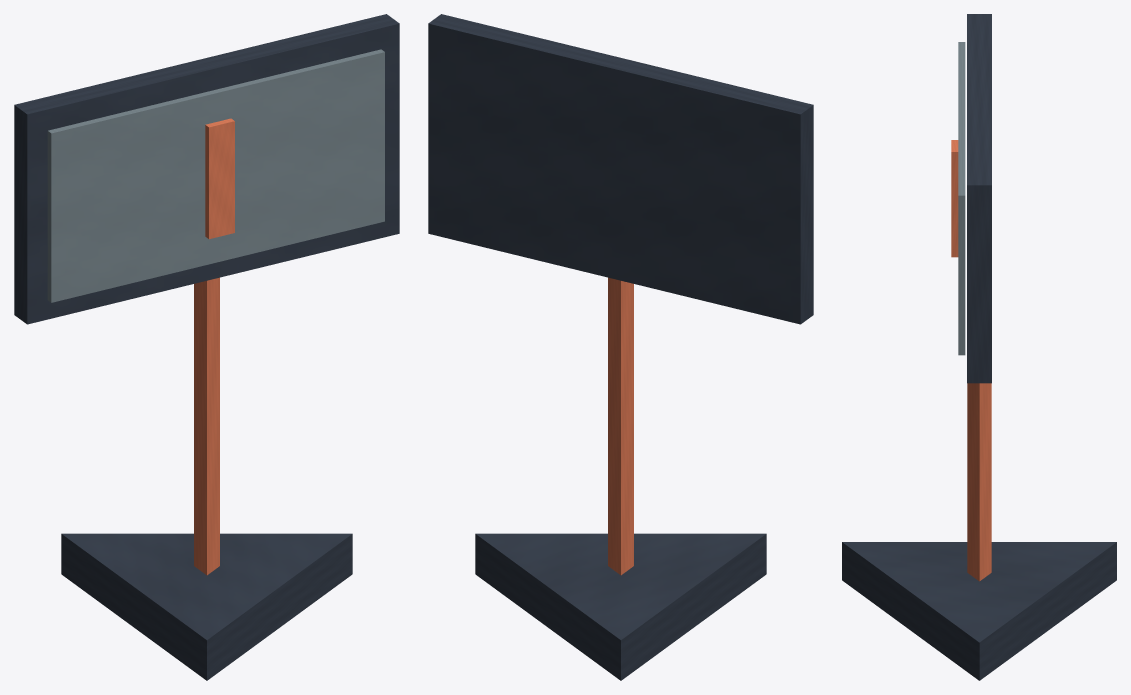
The model's file is atlas100-s022-a11.lod2.glb.
The picture shows the model from 3 angles, left to right: view 1: azimuth 30°, elevation 25°; view 2: azimuth 150°, elevation 25°; view 3: azimuth 270°, elevation 25°; orthographic projection. The views are drawn at different scales.
Visible parts, largest first — view 1: atlas100-s022-a11:part-003, atlas100-s022-a11:part-002, atlas100-s022-a11:part-000, atlas100-s022-a11:part-001, atlas100-s022-a11:part-005; view 2: atlas100-s022-a11:part-002, atlas100-s022-a11:part-000, atlas100-s022-a11:part-001; view 3: atlas100-s022-a11:part-000, atlas100-s022-a11:part-002, atlas100-s022-a11:part-001, atlas100-s022-a11:part-003, atlas100-s022-a11:part-005.
Boxes of the visible parts, left/top/right/bottom form: atlas100-s022-a11:part-003: left=47, top=49, right=384, bottom=302; atlas100-s022-a11:part-002: left=14, top=14, right=399, bottom=324; atlas100-s022-a11:part-000: left=61, top=533, right=352, bottom=680; atlas100-s022-a11:part-001: left=194, top=277, right=219, bottom=575; atlas100-s022-a11:part-005: left=205, top=118, right=234, bottom=239; atlas100-s022-a11:part-002: left=428, top=14, right=813, bottom=324; atlas100-s022-a11:part-000: left=475, top=533, right=766, bottom=680; atlas100-s022-a11:part-001: left=608, top=277, right=633, bottom=575; atlas100-s022-a11:part-000: left=842, top=542, right=1116, bottom=680; atlas100-s022-a11:part-002: left=967, top=14, right=991, bottom=383; atlas100-s022-a11:part-001: left=967, top=383, right=991, bottom=581; atlas100-s022-a11:part-003: left=958, top=42, right=965, bottom=355; atlas100-s022-a11:part-005: left=951, top=140, right=958, bottom=257.
Bounding box in the file's own units: 1.15 × 1.61 × 0.7794.
3 materials, 3 textured.
